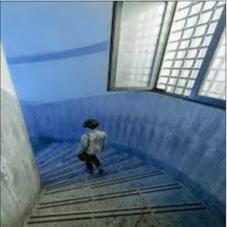Animal: (47, 172, 154, 222)
